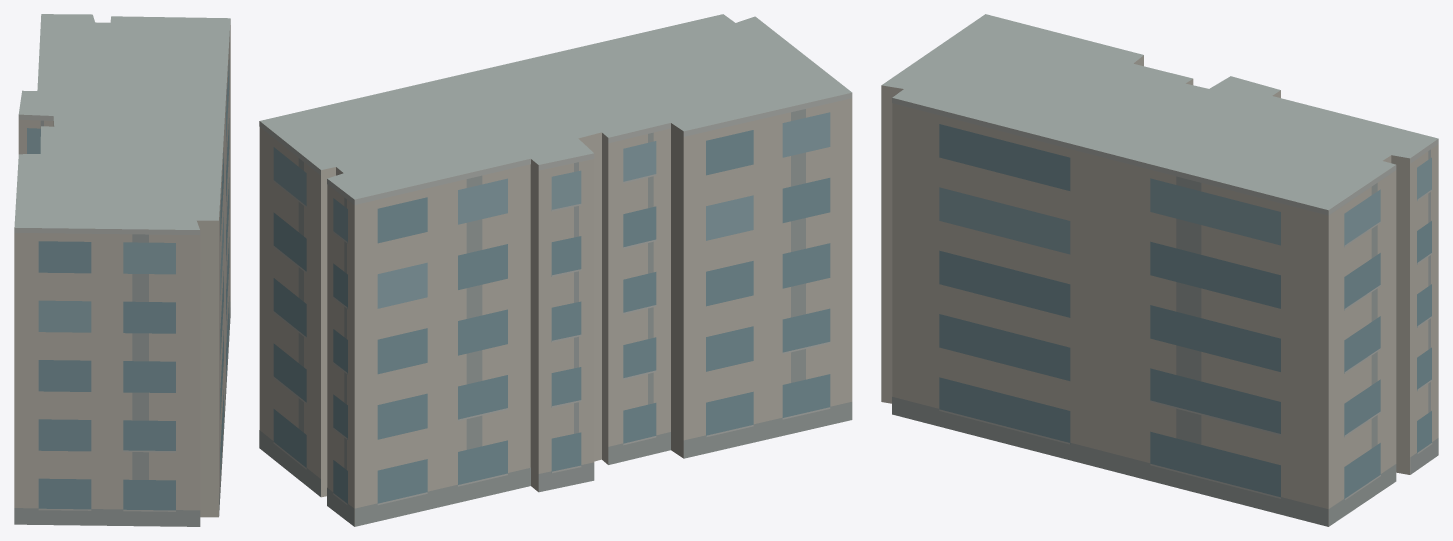
File: survey-upis-33035984.glb
3 renders of one model, left to right at view 1: azimuth 30°, elevation 25°; view 2: azimuth 150°, elevation 25°; view 3: azimuth 270°, elevation 25°, orthographic. The views are drawn at different scales.
Visible parts, largest first — view 1: survey-upis-33035984.tmp; view 2: survey-upis-33035984.tmp; view 3: survey-upis-33035984.tmp.
Boxes of the visible parts, x1,y1,x2,y2 form: survey-upis-33035984.tmp: (14,14,230,526); survey-upis-33035984.tmp: (259,14,852,526); survey-upis-33035984.tmp: (881,14,1438,526).
Size of the model in its own units: 19.01 by 14.3 by 22.82.
